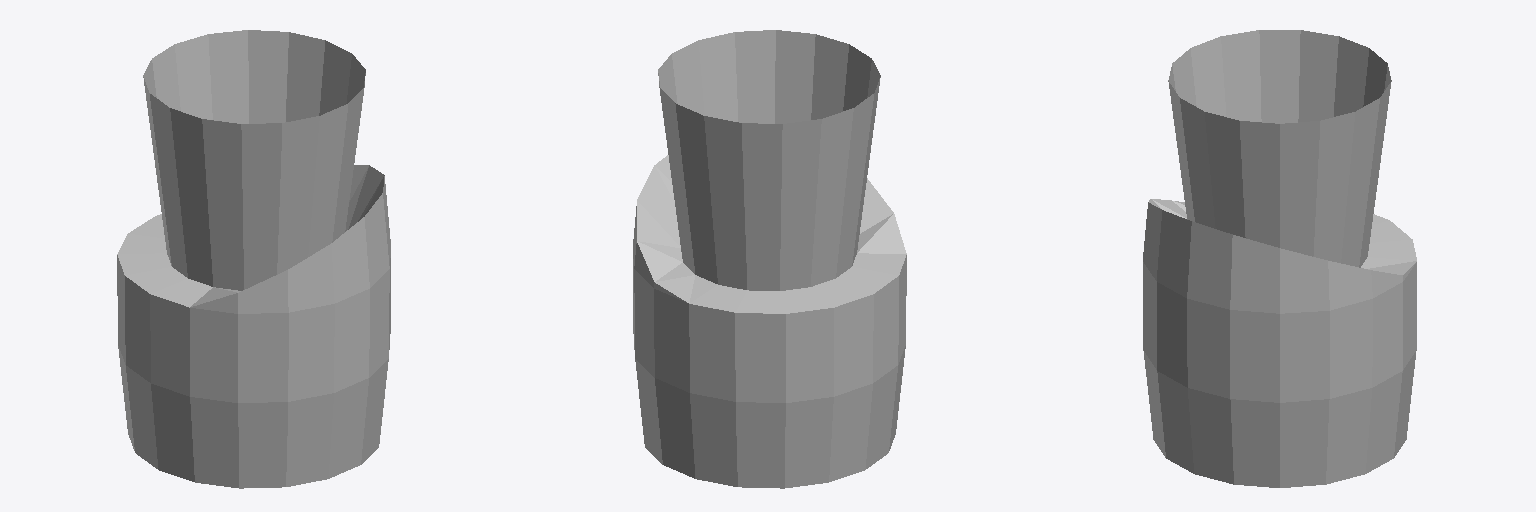
File: body03.obj
The picture shows the model from 3 angles: view 1: azimuth 30°, elevation 25°; view 2: azimuth 150°, elevation 25°; view 3: azimuth 270°, elevation 25°; orthographic projection.
Parts seen in each view (by area): view 1: CUPIC_ROCKETSHIP.050; view 2: CUPIC_ROCKETSHIP.050; view 3: CUPIC_ROCKETSHIP.050.
Boxes of the visible parts, box(x1,y1,x2,y2) form: CUPIC_ROCKETSHIP.050: box(117, 30, 390, 488); CUPIC_ROCKETSHIP.050: box(633, 30, 906, 488); CUPIC_ROCKETSHIP.050: box(1143, 30, 1416, 487).
Bounding box in the file's own units: 9.36 × 13.52 × 9.4.